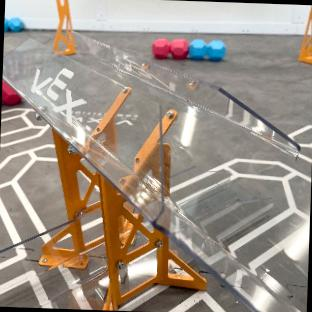V5_BLUE: (189, 39, 226, 60), (4, 17, 23, 31)
